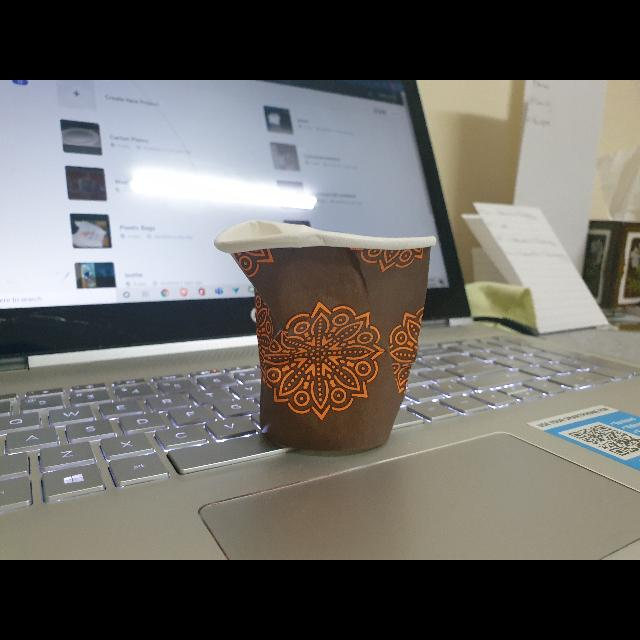trash: (210, 213, 442, 463)
